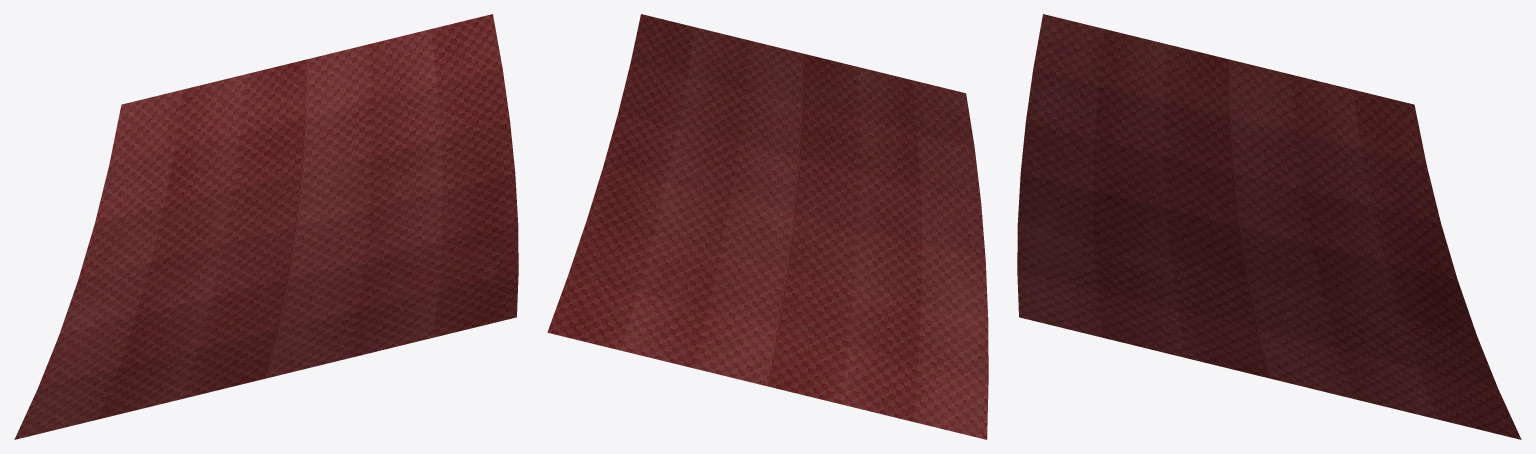
The model's file is cobertor.glb.
3 views of the same model, side by side, from view 1: azimuth 30°, elevation 25°; view 2: azimuth 150°, elevation 25°; view 3: azimuth 330°, elevation 25° (orthographic). The views are drawn at different scales.
Visible parts, largest first — view 1: Cloth_Fabric; view 2: Cloth_Fabric; view 3: Cloth_Fabric.
Part boxes in pixels (x1,y1,x2,y2): Cloth_Fabric: [14, 14, 518, 439]; Cloth_Fabric: [547, 14, 988, 439]; Cloth_Fabric: [1017, 14, 1521, 439].
Size of the model in its own units: 0.9775 by 0.65 by 0.14.
Materials: 1 (1 with a texture image).
